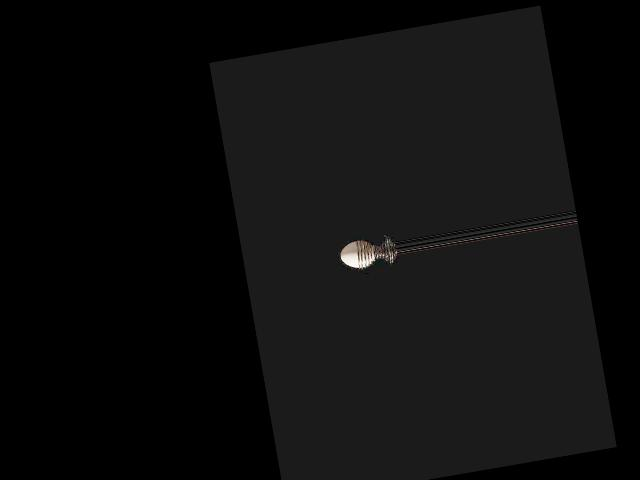egg: (338, 238, 376, 271)
